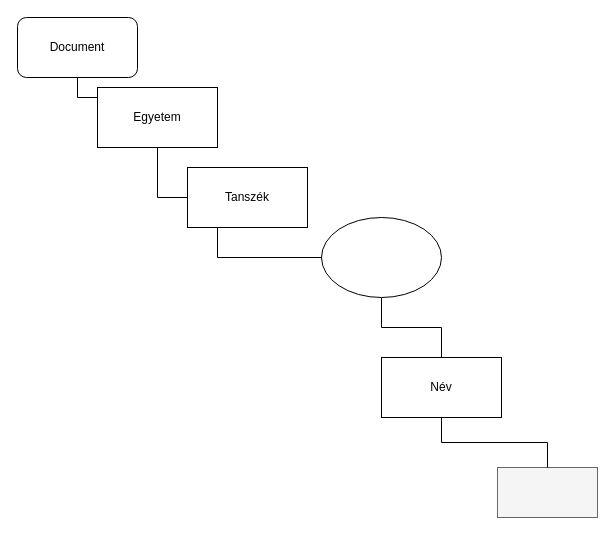
This 615x535 diagram has some shape labels left out. Here are the shapes that lost their labels. From the top down, the centre of each, then its label:
(381,257): ID
(547,492): Informatika
